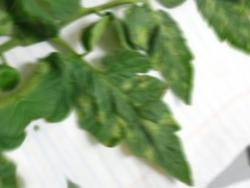Tomato mold leaf: (41, 22, 218, 188), (122, 0, 218, 114)
